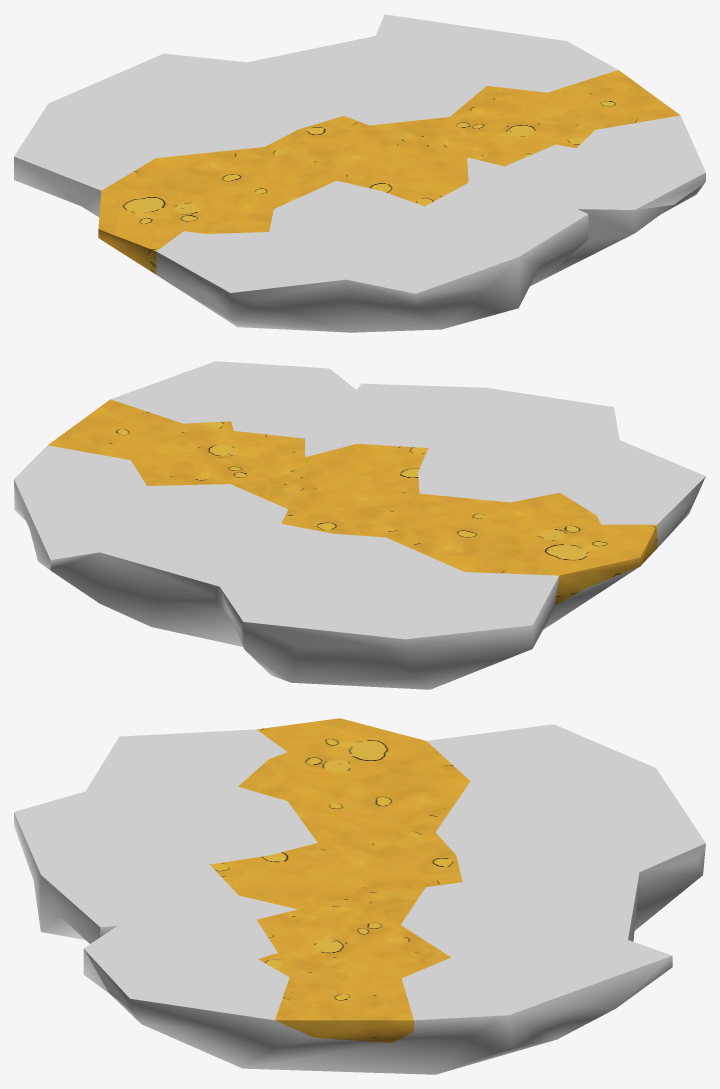
File: platform2.fbx
The picture shows the model from 3 angles, top to bottom: view 1: azimuth 30°, elevation 25°; view 2: azimuth 150°, elevation 25°; view 3: azimuth 270°, elevation 25°; orthographic projection. The views are drawn at different scales.
Parts seen in each view (by area): view 1: pPlane1; view 2: pPlane1; view 3: pPlane1.
Boxes of the visible parts, box(x1,y1,x2,y2) form: pPlane1: box(14, 14, 705, 332); pPlane1: box(14, 361, 705, 689); pPlane1: box(14, 718, 705, 1074).
Size of the model in its own units: 70.06 by 20.27 by 67.82.
